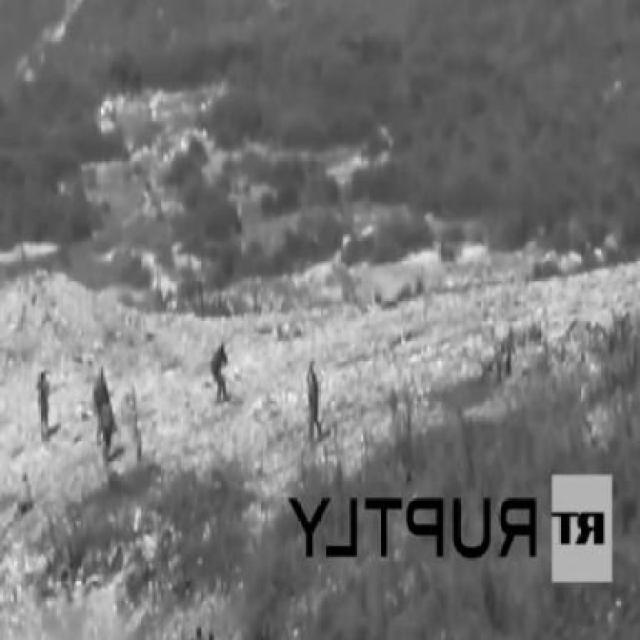Person: (304, 360, 327, 444), (211, 340, 234, 405), (94, 366, 113, 434), (101, 396, 118, 469), (38, 373, 53, 440)
